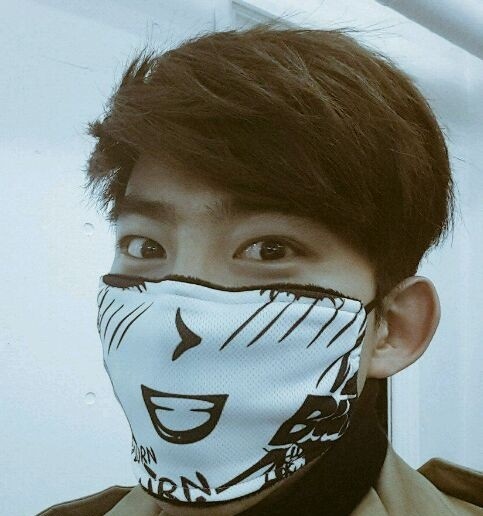face_mask: (99, 119, 369, 492)
